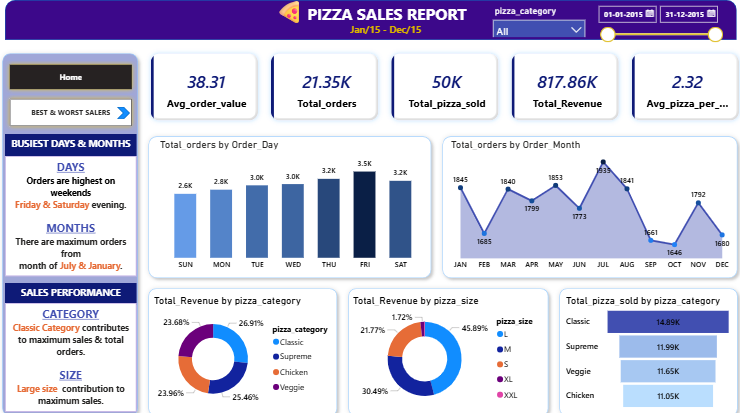

The page's visual inventory and layout, read from the dashboard file:
{"tool":"powerbi","page":{"name":"Home","canvas":[1280,720],"ordinal":0},"visuals":[{"type":"cardVisual","fields":{"Data":["pizza_sales.Avg_order_value","pizza_sales.Total_orders","pizza_sales.Total_pizza_sold","pizza_sales.Total_Revenue","pizza_sales.Avg_pizza_per_order"]},"box":[245.9,79,1034.6,158],"z":0},{"type":"shape","box":[23.4,11.7,1229.3,67.3],"z":1000},{"type":"textbox","box":[448.5,0,378,70.6],"z":2000},{"type":"textbox","box":[598,45.4,151.2,31.9],"z":3000},{"type":"shape","box":[256.1,231.2,493.2,256.1],"z":4000},{"type":"columnChart","fields":{"Category":["pizza_sales.Order_Day"],"Y":["pizza_sales.Total_orders"]},"box":[278,244.4,458,231.2],"z":5000},{"type":"shape","box":[749.3,231.2,513.7,256.1],"z":6000},{"type":"areaChart","fields":{"Y":["pizza_sales.Total_orders"],"Category":["pizza_sales.Order_Month"]},"box":[766.8,244.4,481.5,231.2],"z":7000},{"type":"shape","box":[256.1,487.3,335.1,232.7],"z":8000},{"type":"shape","box":[591.2,487.3,354.1,232.7],"z":9000},{"type":"shape","box":[945.4,487.3,317.6,232.7],"z":10000},{"type":"donutChart","fields":{"Y":["pizza_sales.Total_Revenue"],"Category":["pizza_sales.pizza_category"]},"box":[269.3,504.9,308.8,199],"z":11000},{"type":"pieChart","fields":{"Y":["pizza_sales.Total_Revenue"],"Category":["pizza_sales.pizza_size"]},"box":[602.9,504.9,330.7,199],"z":12000},{"type":"funnel","fields":{"Y":["pizza_sales.Total_pizza_sold"],"Category":["pizza_sales.pizza_category"]},"box":[960,504.9,288.3,199],"z":13000},{"type":"shape","box":[10.2,92.2,245.9,627.8],"z":14000},{"type":"textbox","box":[23.4,237.1,221,36.6],"z":15000},{"type":"textbox","box":[23.4,273.7,221,202],"z":16000},{"type":"textbox","box":[23.4,487.3,221,36.6],"z":17000},{"type":"textbox","box":[23.4,521,221,182.9],"z":18000},{"type":"slicer","fields":{"Values":["pizza_sales.pizza_category"]},"box":[833.2,15.1,174.7,58.8],"z":19000},{"type":"slicer","fields":{"Values":["pizza_sales.order_date"]},"box":[1007.9,11.8,230.1,80.6],"z":20000},{"type":"pageNavigator","box":[23.5,112.5,221.7,57.1],"z":20001},{"type":"pageNavigator","box":[23.5,169.7,221.7,62.2],"z":20002},{"type":"shape","box":[211.7,191.5,21.8,20.2],"z":20003},{"type":"textbox","box":[38.6,25.2,151.2,40.3],"z":20004}]}

Visuals, with their boxes in screenshot pixels (x1, y1, x2, y2), scaled from the page's 1280x720 canvas onto the 740x413 screenshot:
cardVisual - pizza_sales.Avg_order_value x pizza_sales.Total_orders: bbox(142, 45, 739, 136)
shape: bbox(14, 7, 724, 45)
textbox: bbox(259, 0, 478, 40)
textbox: bbox(346, 26, 433, 44)
shape: bbox(148, 133, 433, 280)
columnChart - pizza_sales.Order_Day x pizza_sales.Total_orders: bbox(161, 140, 426, 273)
shape: bbox(433, 133, 730, 280)
areaChart - pizza_sales.Total_orders x pizza_sales.Order_Month: bbox(443, 140, 722, 273)
shape: bbox(148, 280, 342, 412)
shape: bbox(342, 280, 547, 412)
shape: bbox(547, 280, 730, 412)
donutChart - pizza_sales.Total_Revenue x pizza_sales.pizza_category: bbox(156, 290, 334, 404)
pieChart - pizza_sales.Total_Revenue x pizza_sales.pizza_size: bbox(349, 290, 540, 404)
funnel - pizza_sales.Total_pizza_sold x pizza_sales.pizza_category: bbox(555, 290, 722, 404)
shape: bbox(6, 53, 148, 412)
textbox: bbox(14, 136, 141, 157)
textbox: bbox(14, 157, 141, 273)
textbox: bbox(14, 280, 141, 301)
textbox: bbox(14, 299, 141, 404)
slicer - pizza_sales.pizza_category: bbox(482, 9, 583, 42)
slicer - pizza_sales.order_date: bbox(583, 7, 716, 53)
pageNavigator: bbox(14, 65, 142, 97)
pageNavigator: bbox(14, 97, 142, 133)
shape: bbox(122, 110, 135, 121)
textbox: bbox(22, 14, 110, 38)
